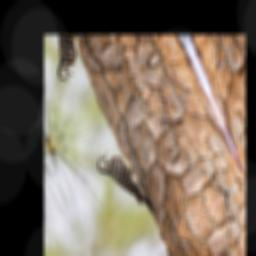Woodpecker: (94, 132, 162, 240)
